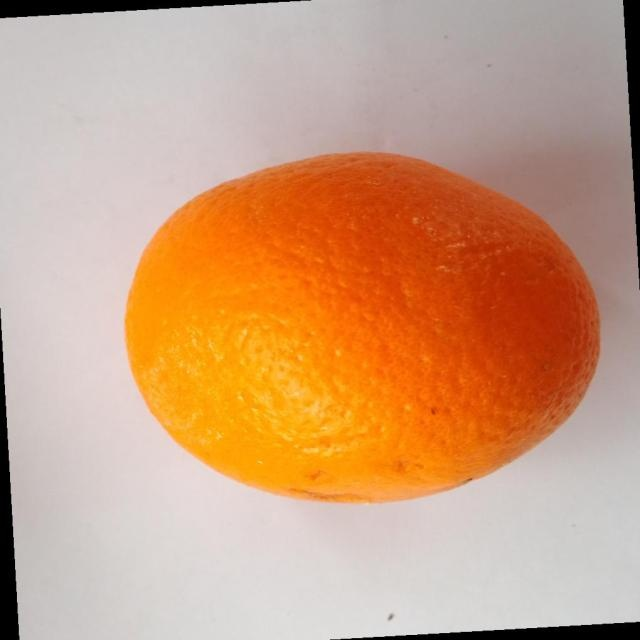agrume: (123, 149, 602, 505)
